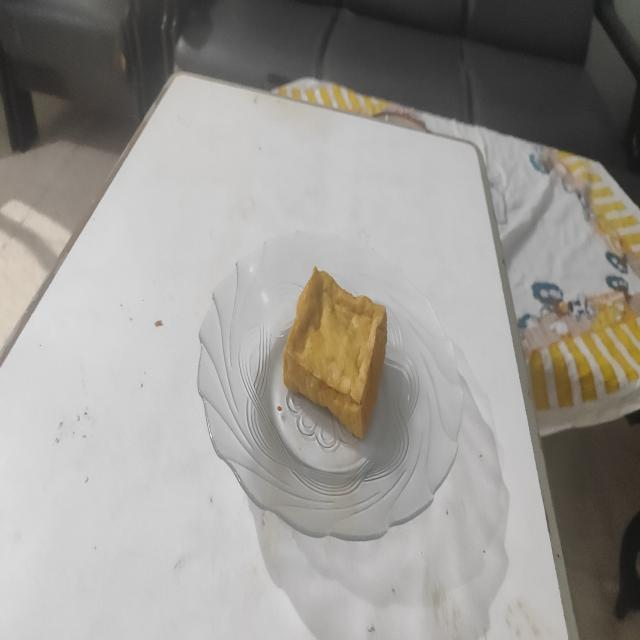tahu_goreng: (283, 266, 387, 438)
